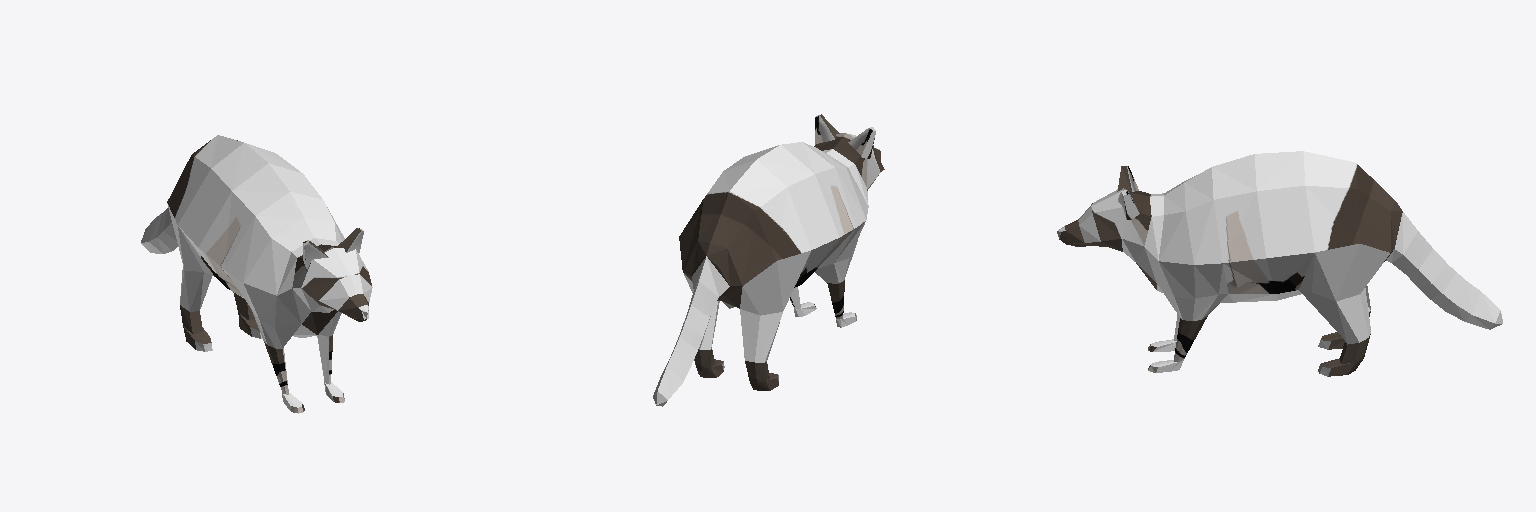
3 views of the same model, side by side, from view 1: azimuth 30°, elevation 25°; view 2: azimuth 150°, elevation 25°; view 3: azimuth 270°, elevation 25° (orthographic).
Visible parts, largest first — view 1: Geo_Raccoon; view 2: Geo_Raccoon; view 3: Geo_Raccoon.
Part boxes in pixels (x1,y1,x2,y2): Geo_Raccoon: (141, 135, 372, 413); Geo_Raccoon: (653, 114, 884, 406); Geo_Raccoon: (1057, 151, 1502, 376).
Size of the model in its own units: 23.12 by 35.88 by 69.22.
Materials: 1 (1 with a texture image).